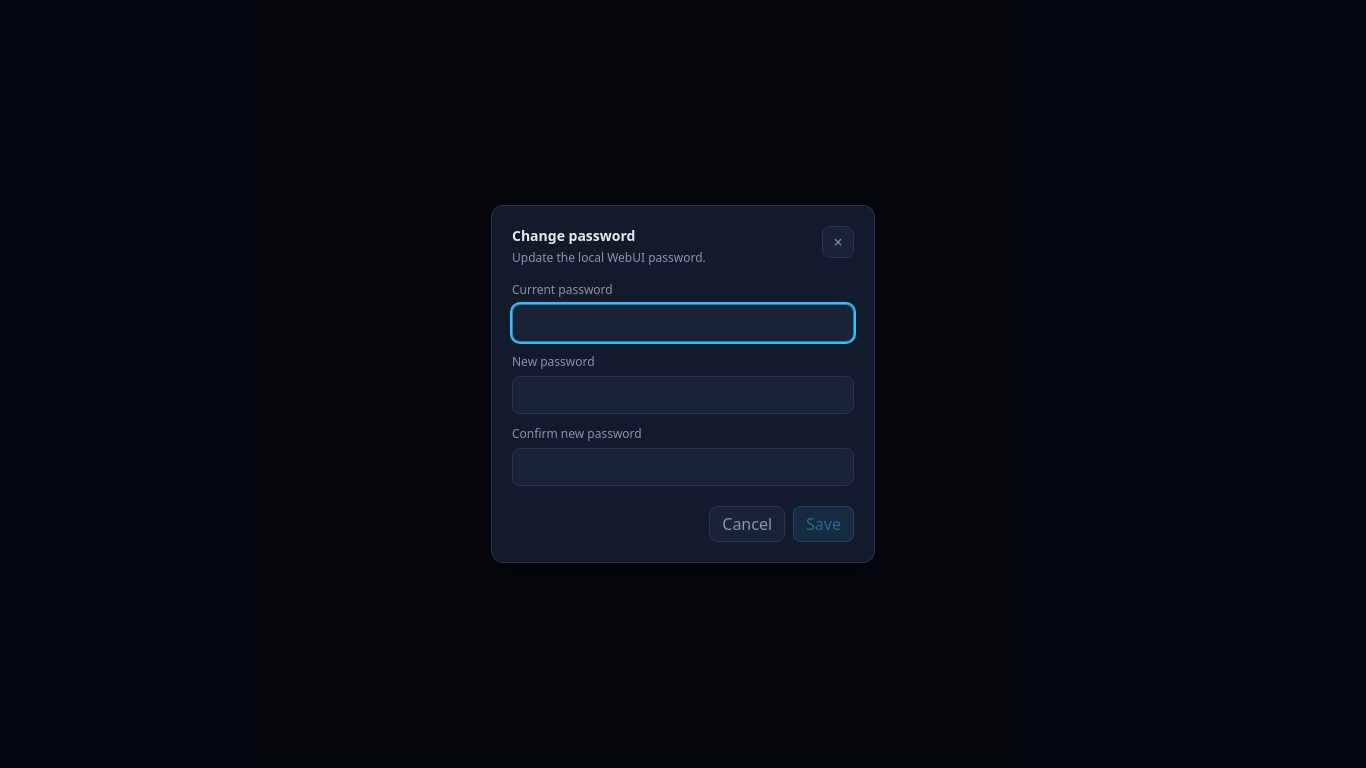
Scenario: ChangePasswordModal › form submission › shows error message on API failure
Type "wrongpass" into the password field labelled "Current password".
click(683, 323); type("wrongpass")  # box [512,304,854,342]
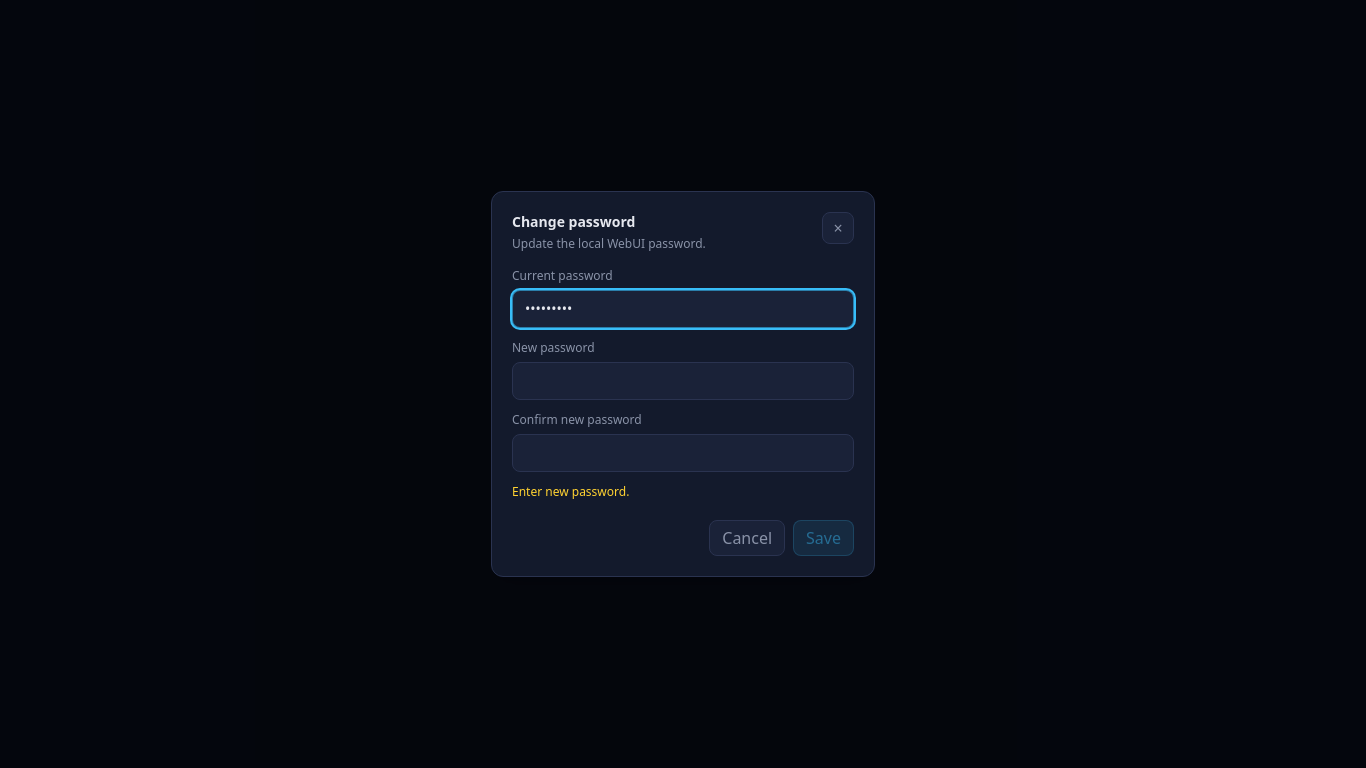
Type "newpass123" into the password field labelled "New password".
click(683, 381); type("newpass123")  # box [512,362,854,400]
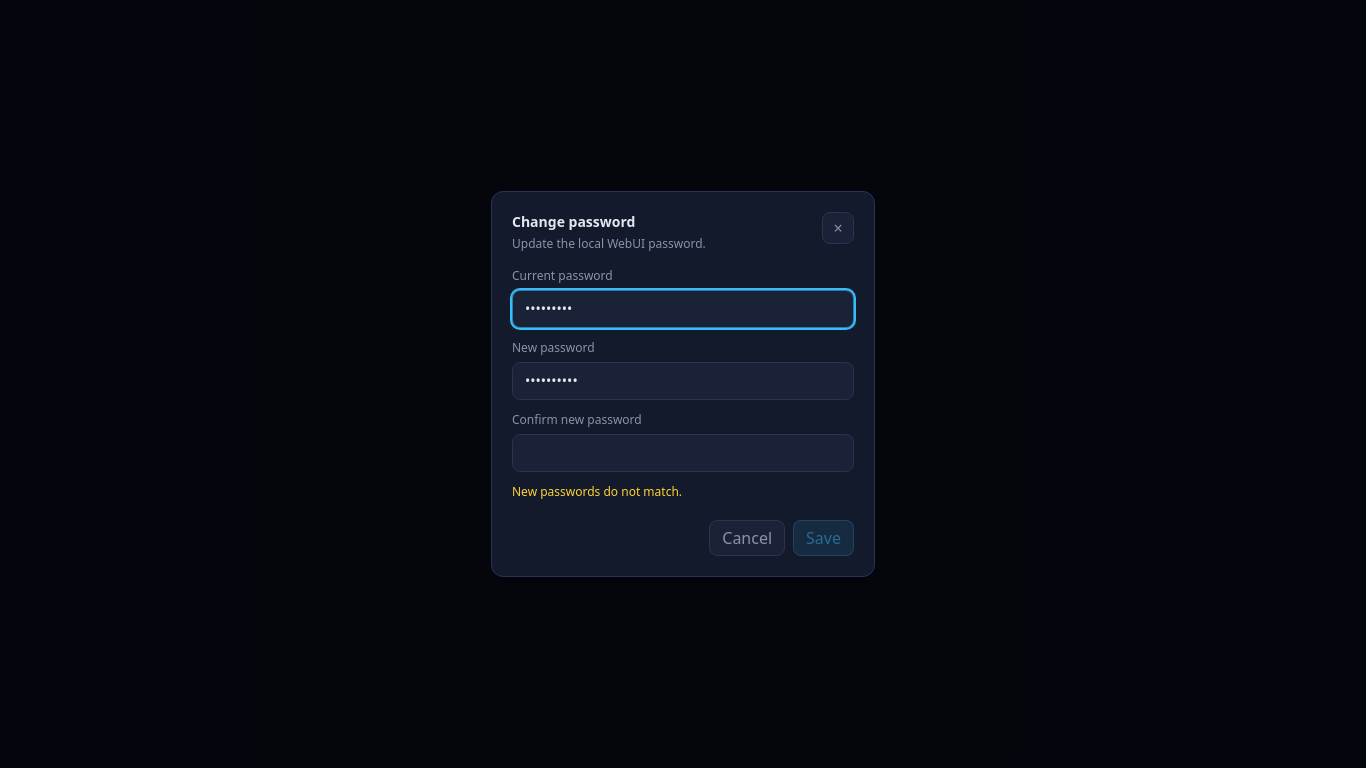
Type "newpass123" into the password field labelled "Confirm new password".
click(683, 453); type("newpass123")  # box [512,434,854,472]
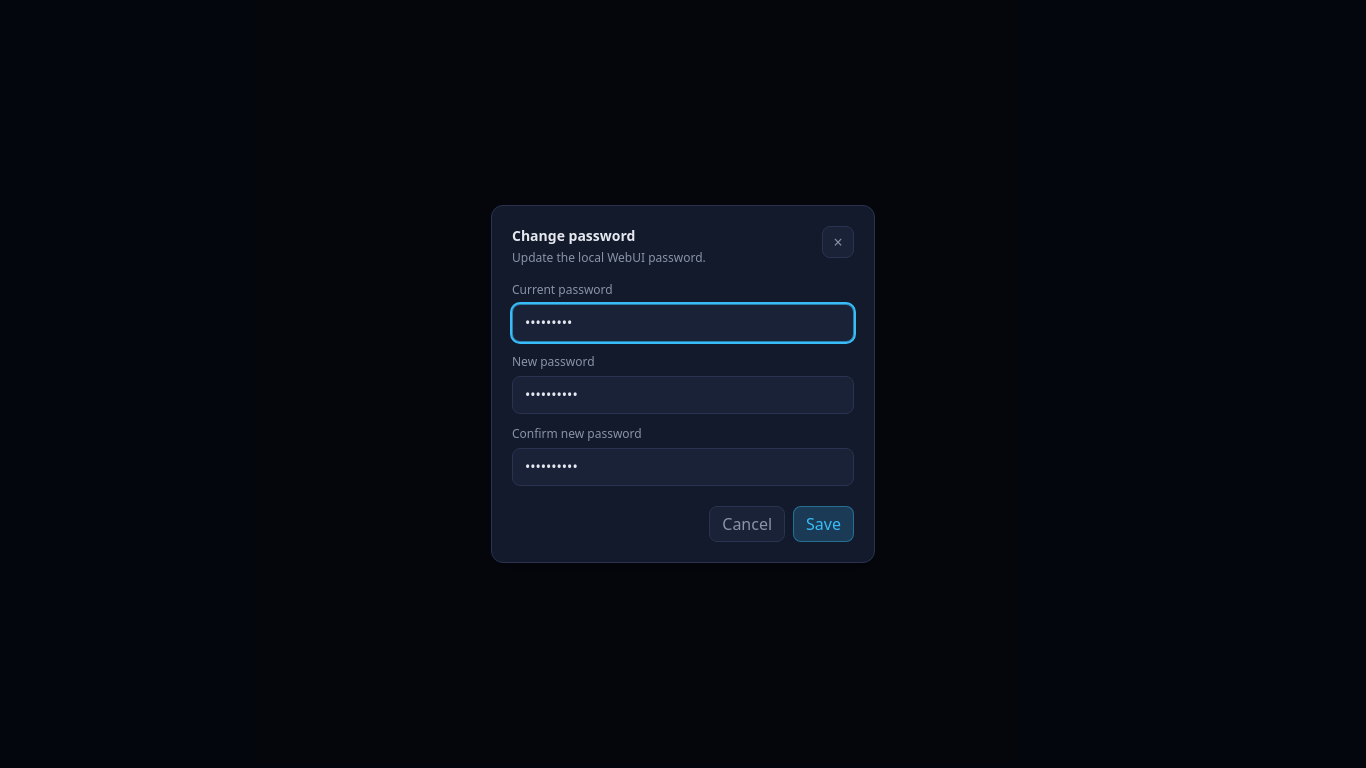
Click the button "Save".
click(824, 524)  # box [793,506,854,542]
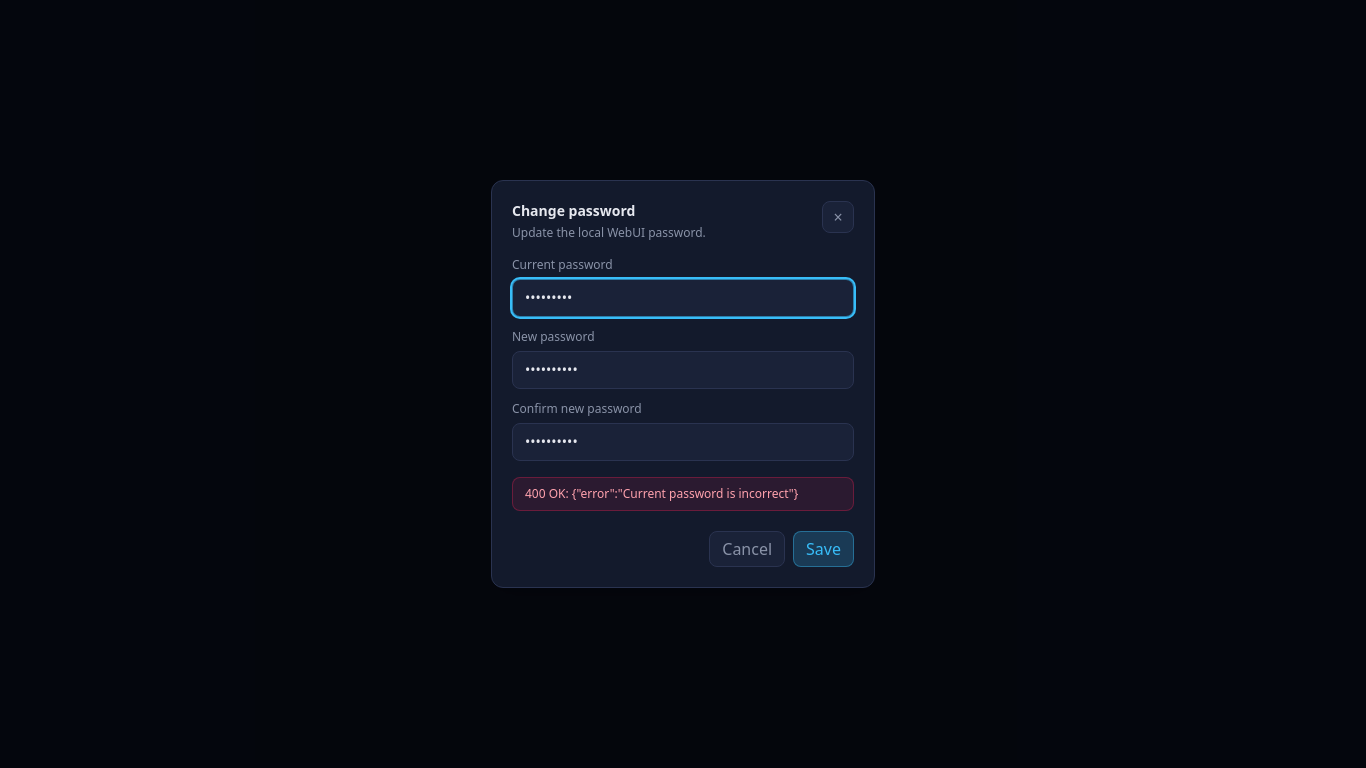
Now the text "400 OK: {\"error\":\"Current password is incorrect\"}" is shown, box [512,477,854,511]
